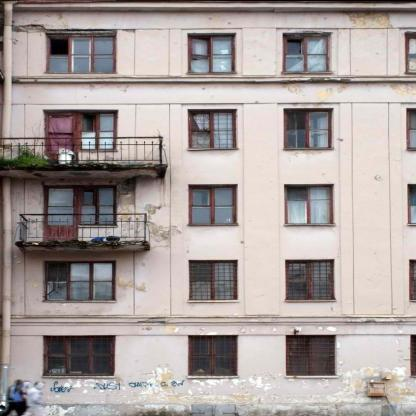Balcony: (0, 136, 162, 166), (16, 214, 146, 244)
Building Outline: (0, 0, 416, 416)
Dont: (0, 378, 49, 416)
Door: (43, 185, 77, 243), (43, 109, 77, 166)
Facade: (0, 0, 416, 416)
Floor: (0, 172, 416, 244), (0, 97, 416, 167), (0, 249, 416, 316)
Floor Slab: (0, 167, 416, 172), (0, 244, 416, 249), (0, 317, 416, 322), (0, 91, 416, 96)
Ground Floor: (0, 322, 416, 416)
Top Floor: (0, 0, 416, 91)
Window: (42, 260, 117, 302), (43, 335, 116, 377), (45, 33, 117, 73), (285, 335, 336, 377), (188, 335, 238, 376), (286, 259, 335, 300), (284, 108, 333, 148), (188, 109, 237, 149), (189, 184, 238, 224), (285, 184, 334, 224), (189, 260, 238, 300), (188, 33, 236, 73), (283, 33, 331, 73), (77, 109, 118, 151), (77, 185, 118, 226), (405, 32, 416, 72), (406, 108, 416, 148), (407, 183, 416, 224), (408, 259, 416, 300), (410, 334, 416, 376)
